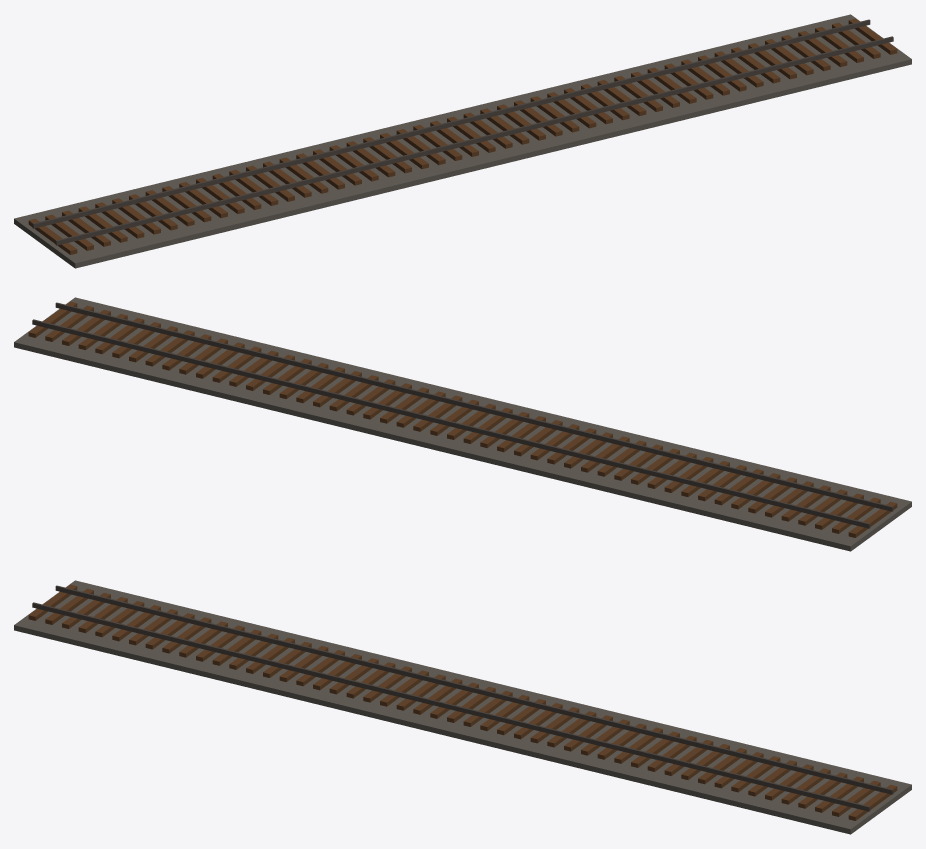
Rendered from ViaTren.obj.
3 views of the same model, one above another, from view 1: azimuth 30°, elevation 25°; view 2: azimuth 150°, elevation 25°; view 3: azimuth 330°, elevation 25° (orthographic).
Parts seen in each view (by area): view 1: ViaTren; view 2: ViaTren; view 3: ViaTren.
Boxes of the visible parts, x1=… form: ViaTren: x1=14, y1=14, x2=911, y2=268; ViaTren: x1=14, y1=297, x2=911, y2=551; ViaTren: x1=14, y1=580, x2=911, y2=834.
Size of the model in its own units: 30 by 0.47 by 3.8.
